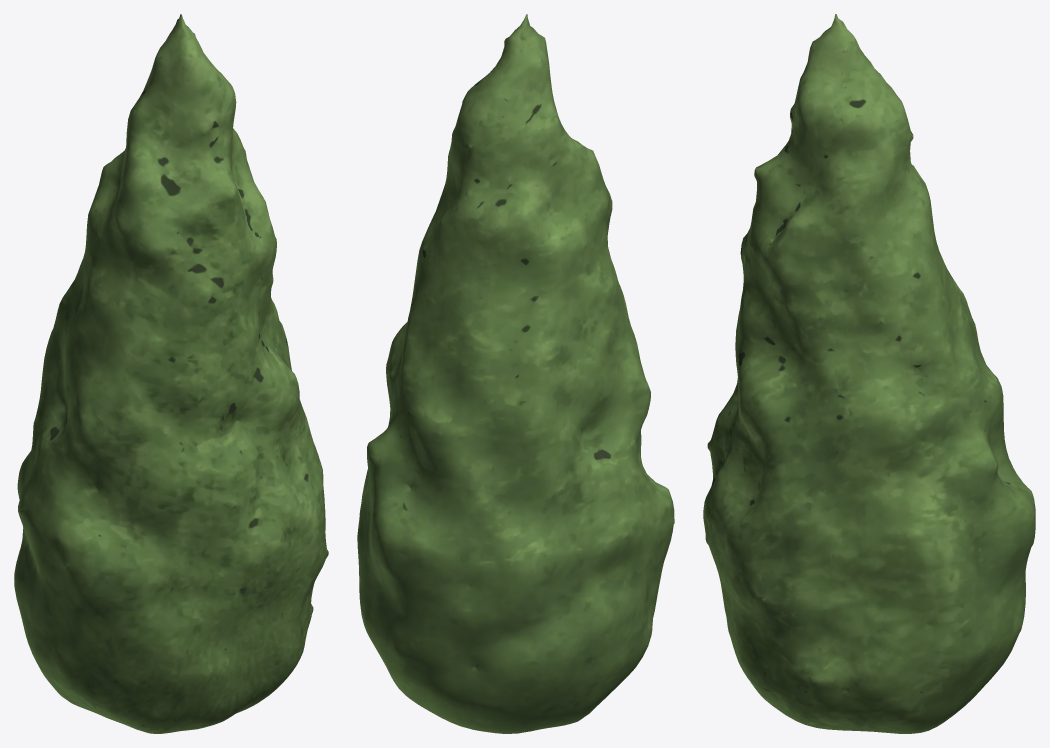
The model's file is Cypress.glb.
3 renders of one model, left to right at view 1: azimuth 30°, elevation 25°; view 2: azimuth 150°, elevation 25°; view 3: azimuth 270°, elevation 25°, orthographic. The views are drawn at different scales.
Visible parts, largest first — view 1: Cypress; view 2: Cypress; view 3: Cypress.
Boxes of the visible parts, x1,y1,x2,y2 form: Cypress: (14,14,328,733); Cypress: (357,14,674,733); Cypress: (703,14,1035,733).
Bounding box in the file's own units: 1.18 × 3 × 1.31.
1 material, 1 textured.
